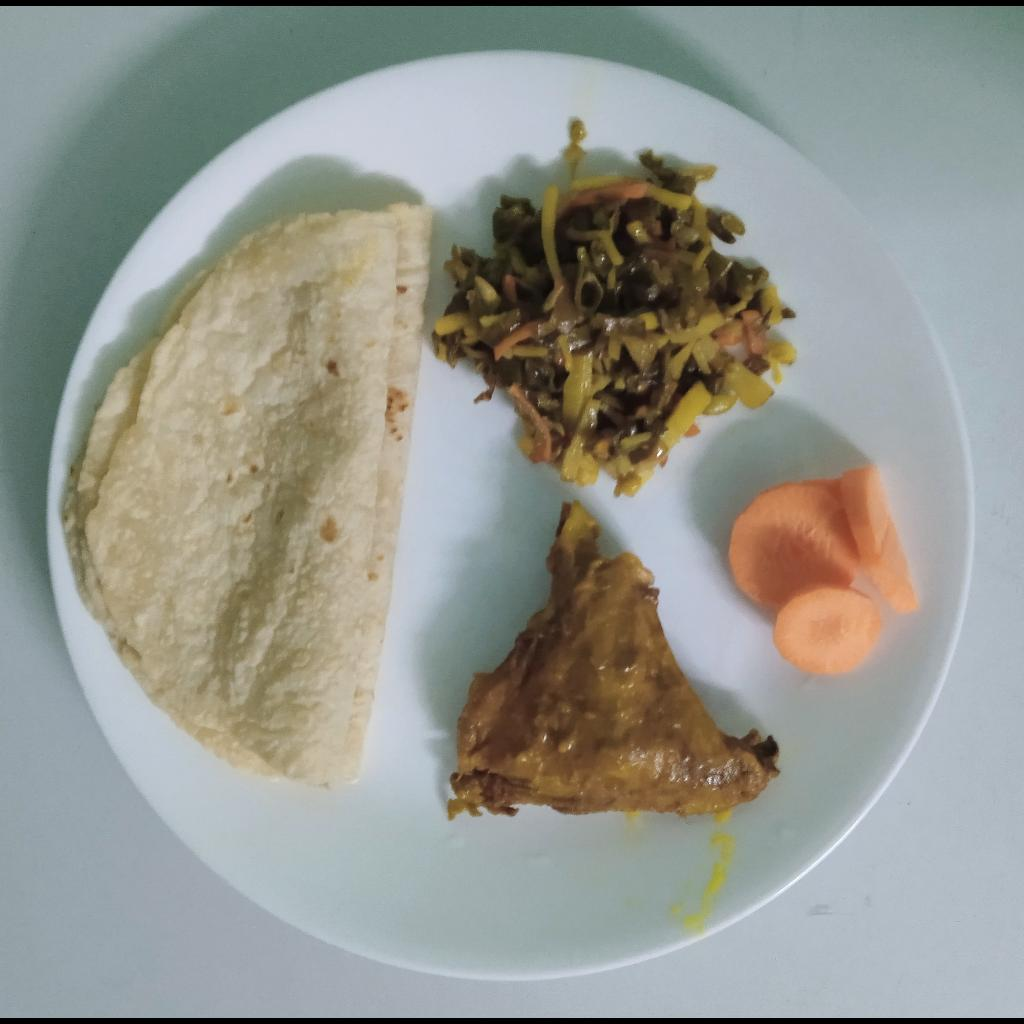carrot: (727, 465, 915, 675)
chicken: (444, 501, 783, 821)
ruti: (63, 202, 435, 790)
vegetable: (433, 148, 796, 500)
